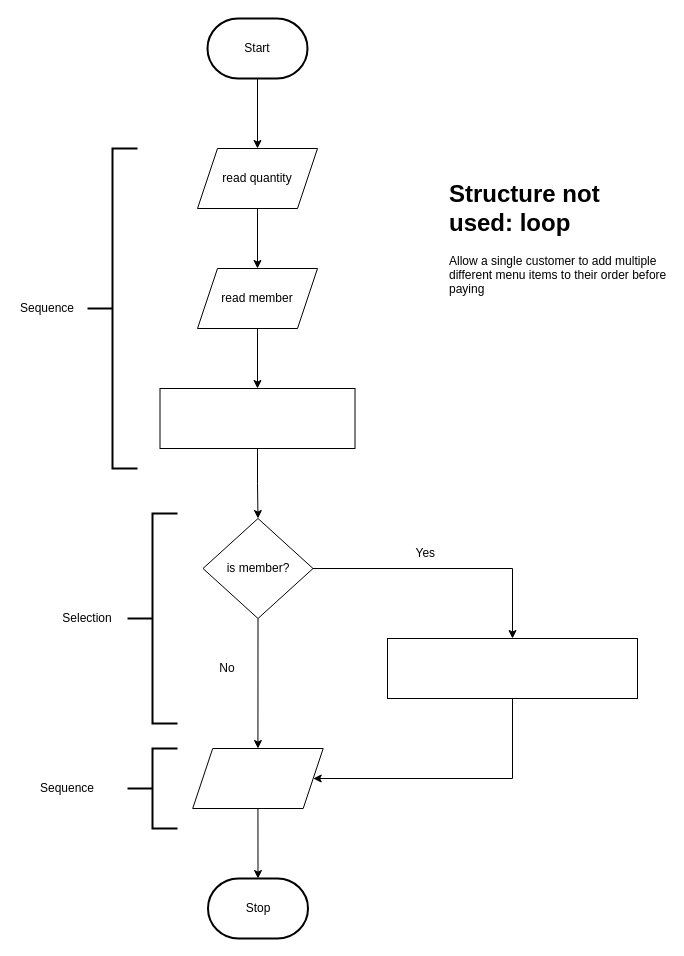
Some shapes in this 684 by 956 pixel diagram are drawn without their labels. Here are the shapes that lost their labels. From the top down, the centre of each, then its label:
At (257,418): "total price = 4.50 x quantity".
At (512,668): "total price = total price - (total price x 0.1)".
At (257,778): "display total price".
